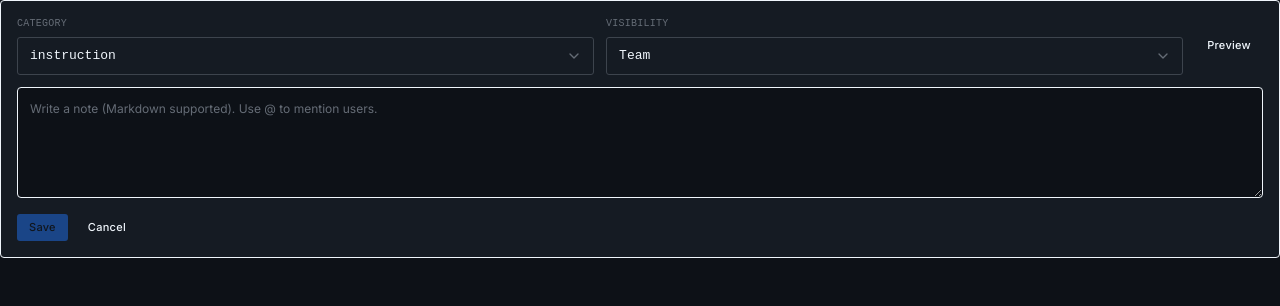
Scenario: NoteEditor › detects @mentions
This screenshot has width=1280, height=306.
Step 1. Type "Hey @alice, please review" into the text box with test id "note-content" → (640, 142), box [17,86,1263,198]
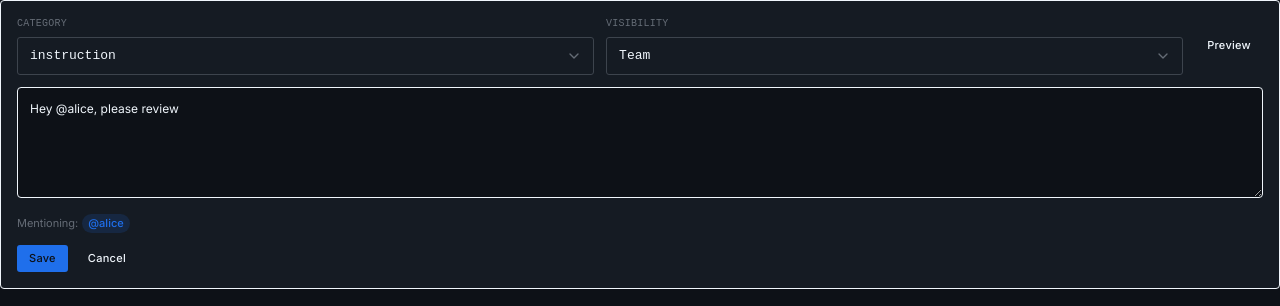
Expected: the element with test id "mentions-indicator" is shown, [17,214,130,233]
Expected: the text "@alice" is shown, [82,214,130,233]
